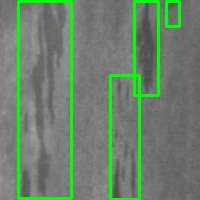inclusion: (18, 1, 71, 198), (110, 75, 139, 199), (134, 1, 158, 95), (166, 1, 179, 26)
